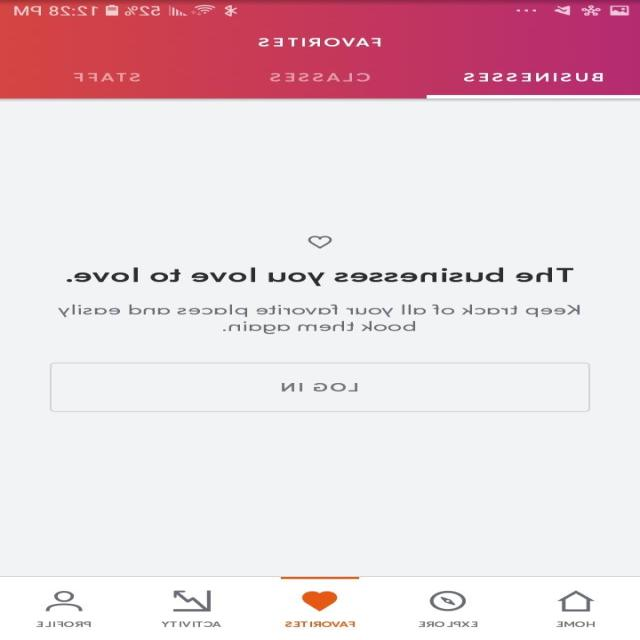Icon: (558, 590, 596, 611), (429, 590, 467, 611), (174, 590, 212, 611), (46, 590, 84, 611), (302, 590, 338, 612), (310, 235, 334, 248)
Text: (58, 304, 580, 334), (66, 267, 574, 286), (463, 73, 604, 82), (258, 37, 382, 47), (270, 73, 371, 82), (74, 73, 142, 82), (286, 620, 356, 627), (418, 620, 478, 627), (36, 620, 92, 627), (162, 621, 222, 627), (556, 620, 596, 627)
TextButton: (51, 362, 592, 412)
